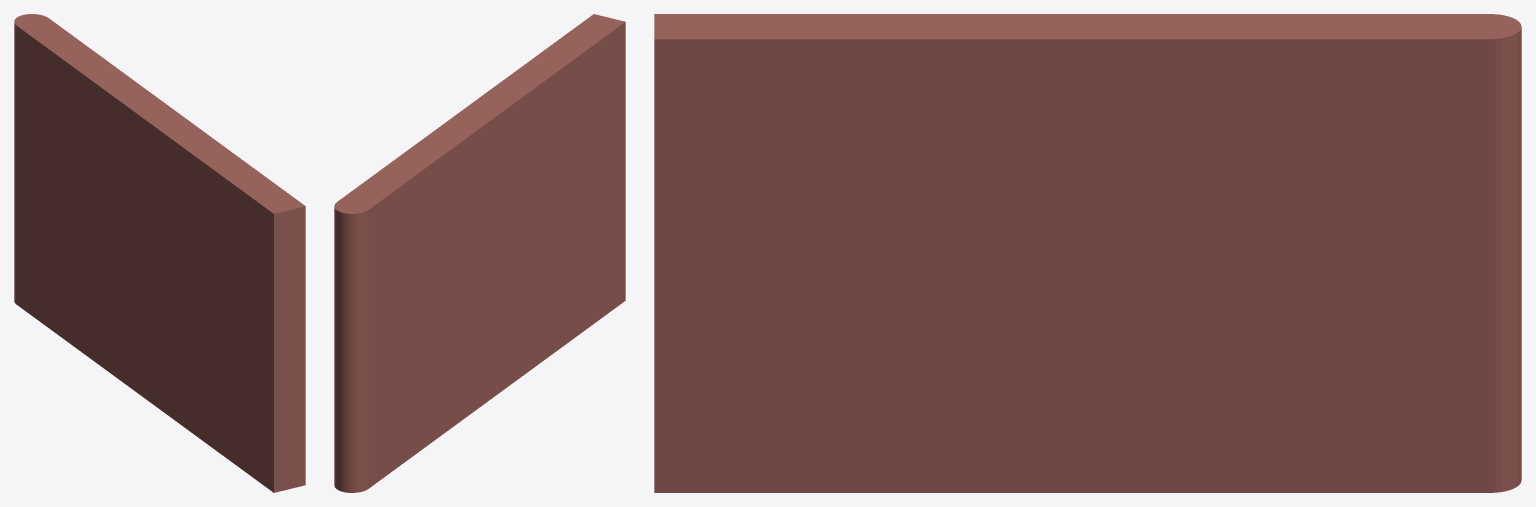
The model's file is Ofice Wand Aussen Dunkel.fbx.
3 renders of one model, left to right at view 1: azimuth 30°, elevation 25°; view 2: azimuth 150°, elevation 25°; view 3: azimuth 270°, elevation 25°, orthographic. The views are drawn at different scales.
Visible parts, largest first — view 1: Cylinder; view 2: Cylinder; view 3: Cylinder.
Boxes of the visible parts, box(x1,y1,x2,y2) form: Cylinder: box(14, 14, 305, 492); Cylinder: box(334, 14, 625, 492); Cylinder: box(654, 14, 1521, 492).
Size of the model in its own units: 6.63 by 55.44 by 96.02.
